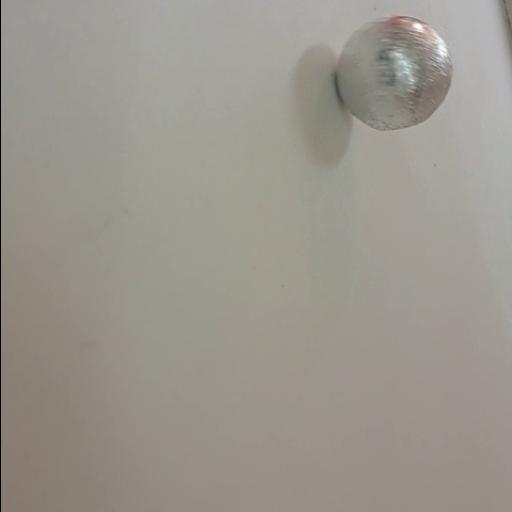alive: (335, 13, 452, 131)
